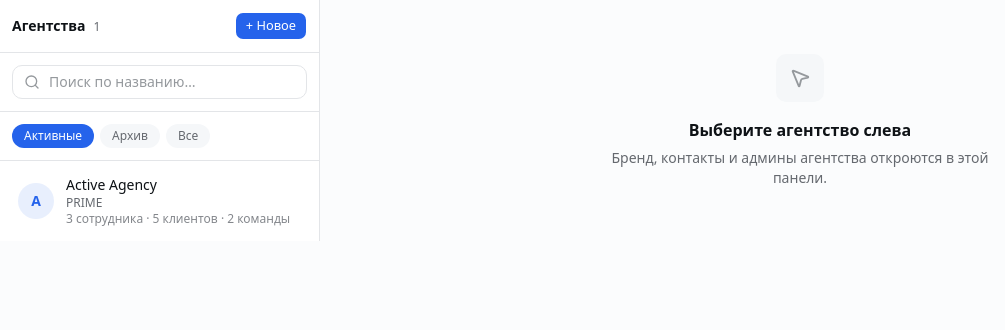
Test: AgencyListPage › search filters list by name
The image size is (1005, 330).
Check: the text "Active Agency" is shown, box [66,175,157,194]
Click the radio button labelled "Все" at (188, 136), box [166,124,210,148]
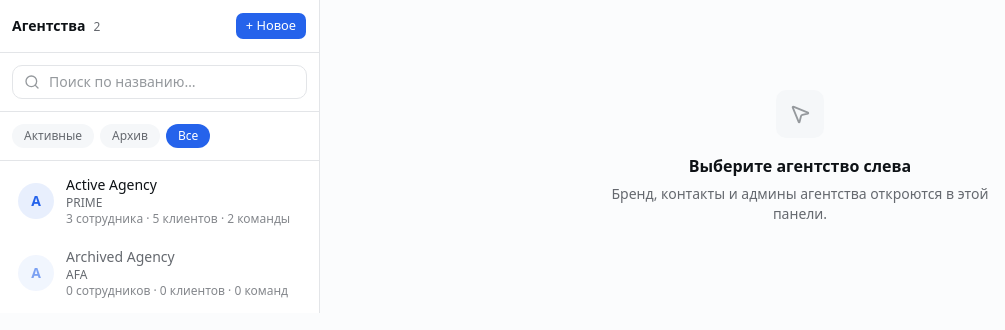
Check: the text "Archived Agency" is shown, box [66,247,175,266]
Type "archived" into the search field with placeholder "Поиск по названию…" at (160, 82), box [12,65,307,99]
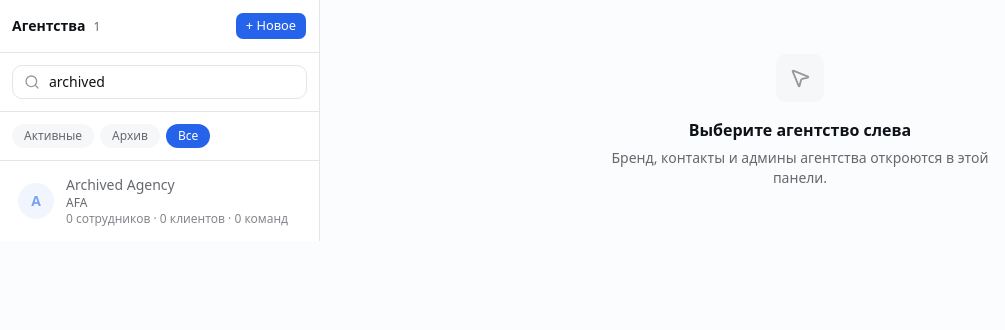
Check: the text "Archived Agency" is shown, box [66,175,175,194]
Check: the link "Active Agency" is gone
